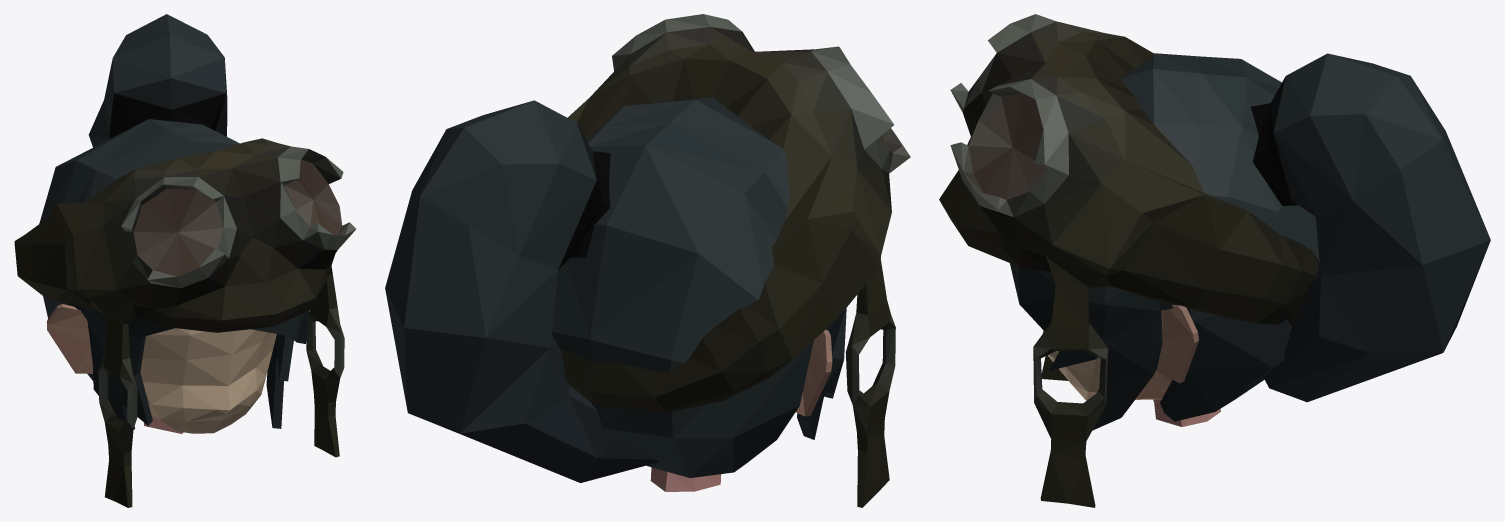
File: helm_lightskin_ponytail_black_goggles.fbx
3 views of the same model, side by side, from view 1: azimuth 30°, elevation 25°; view 2: azimuth 150°, elevation 25°; view 3: azimuth 270°, elevation 25° (orthographic). The views are drawn at different scales.
Parts seen in each view (by area): view 1: helm_lightskin_ponytail_black_goggles; view 2: helm_lightskin_ponytail_black_goggles; view 3: helm_lightskin_ponytail_black_goggles.
Boxes of the visible parts, bbox=[...] form: helm_lightskin_ponytail_black_goggles: bbox=[14, 14, 355, 507]; helm_lightskin_ponytail_black_goggles: bbox=[385, 14, 910, 507]; helm_lightskin_ponytail_black_goggles: bbox=[939, 14, 1490, 507].
Bounding box in the file's own units: 1.25 × 1.58 × 1.86.
